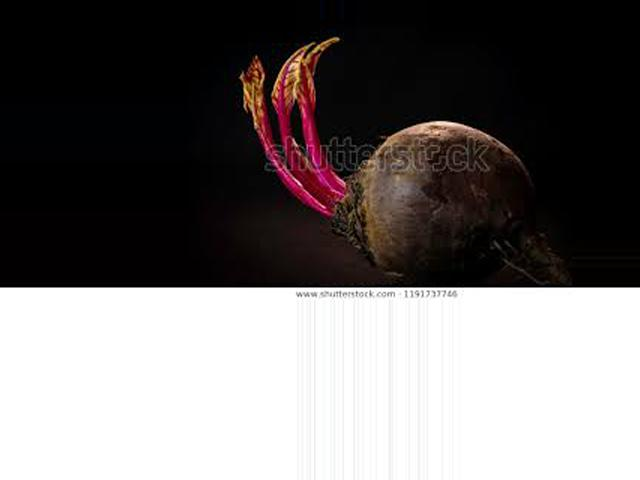beet: (240, 37, 578, 286)
